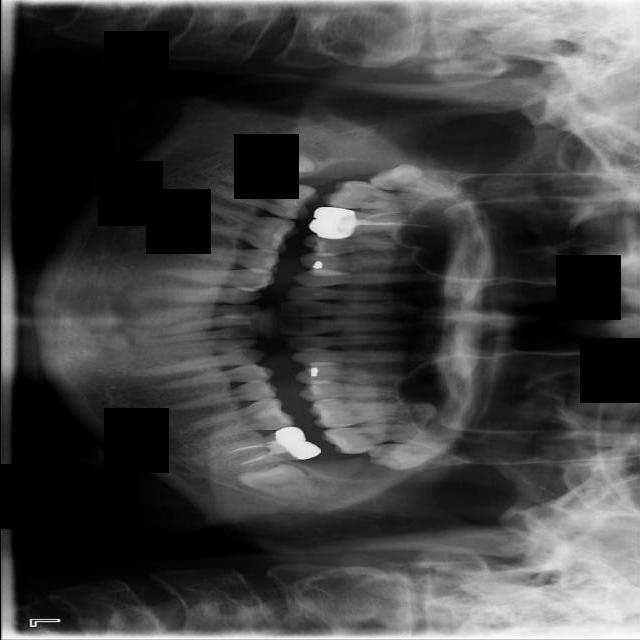3M ESPE Implant: (366, 157, 459, 201)
52: (265, 414, 322, 472), (308, 207, 358, 239), (295, 361, 344, 385), (300, 252, 347, 275)
73: (348, 210, 441, 246), (218, 431, 295, 472), (98, 578, 106, 594)
BioHorizons Implant: (319, 422, 429, 456)
BioLife Implant: (366, 431, 453, 476)
Biomet 3i Implant: (234, 448, 326, 512)
Blue Sky Bio Implant: (215, 422, 322, 472)
Caries: (319, 178, 448, 214)
Implant: (211, 173, 318, 223)
Keystone Dental Implant: (236, 127, 317, 191)
